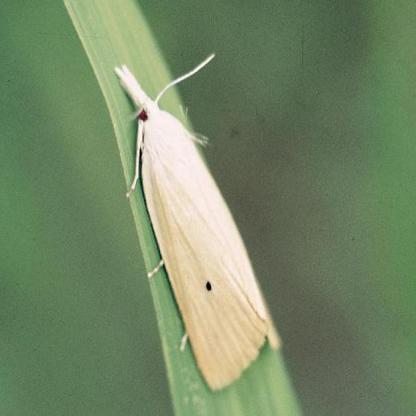stem-borer: (112, 60, 284, 396)
